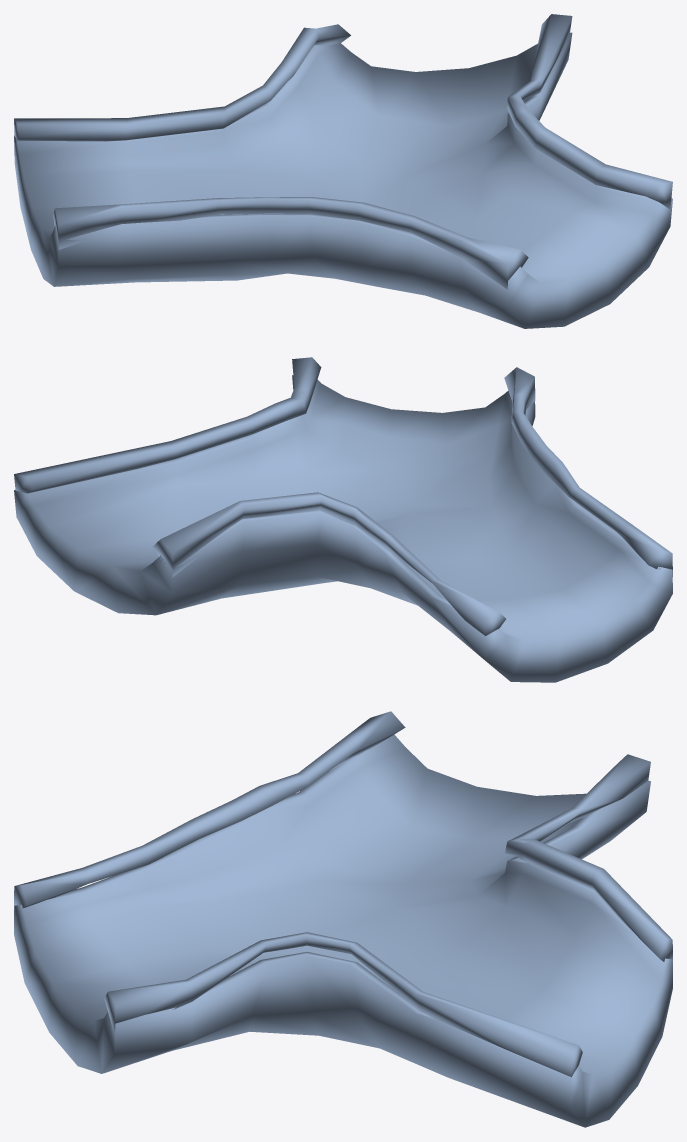
Rendered from junRoadTee10.fbx.
The picture shows the model from 3 angles, top to bottom: view 1: azimuth 30°, elevation 25°; view 2: azimuth 150°, elevation 25°; view 3: azimuth 270°, elevation 25°; orthographic projection. The views are drawn at different scales.
Parts seen in each view (by area): view 1: tee10_LOD0, tee10_edge_LOD0; view 2: tee10_LOD0, tee10_edge_LOD0; view 3: tee10_LOD0, tee10_edge_LOD0.
Part boxes in pixels (x1,y1,x2,y2): tee10_LOD0: (14,32,672,328); tee10_edge_LOD0: (14,14,672,289); tee10_LOD0: (14,375,672,682); tee10_edge_LOD0: (14,357,672,635); tee10_LOD0: (14,734,672,1127); tee10_edge_LOD0: (14,711,672,1077).
Size of the model in its own units: 2614 by 568 by 2136.
